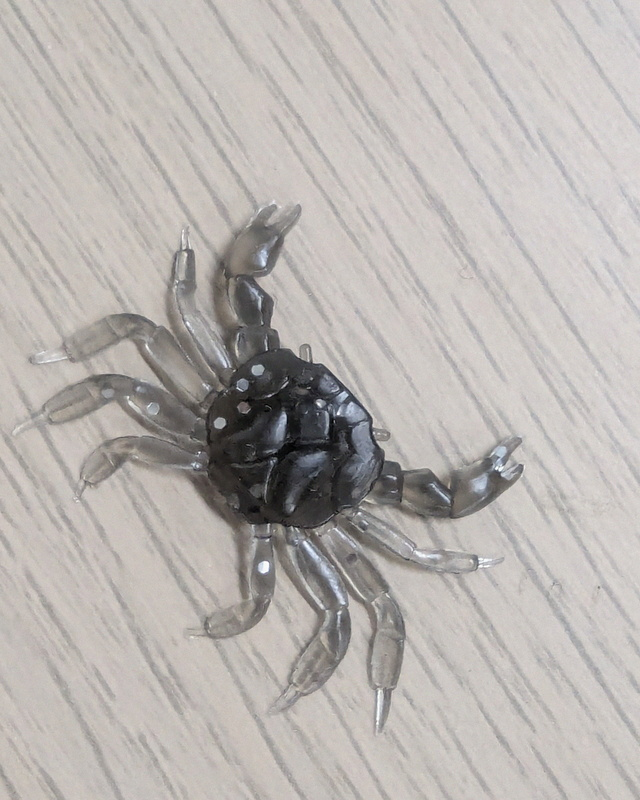crab1: (5, 198, 530, 736)
